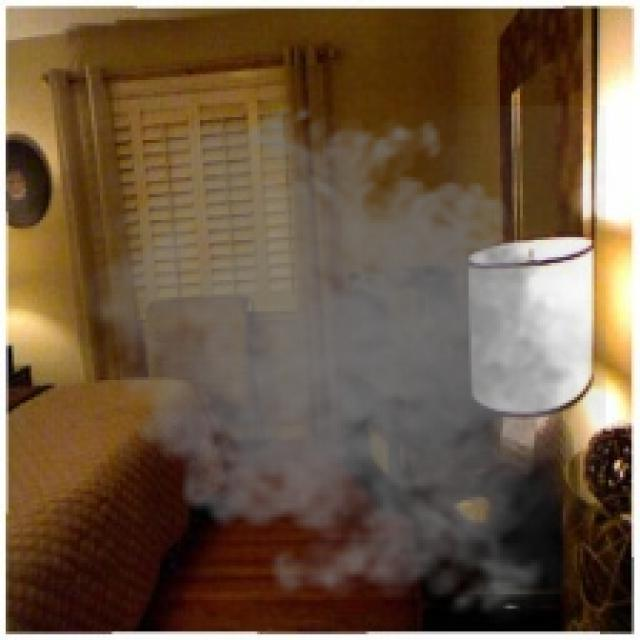Smoke: (60, 94, 606, 629)
